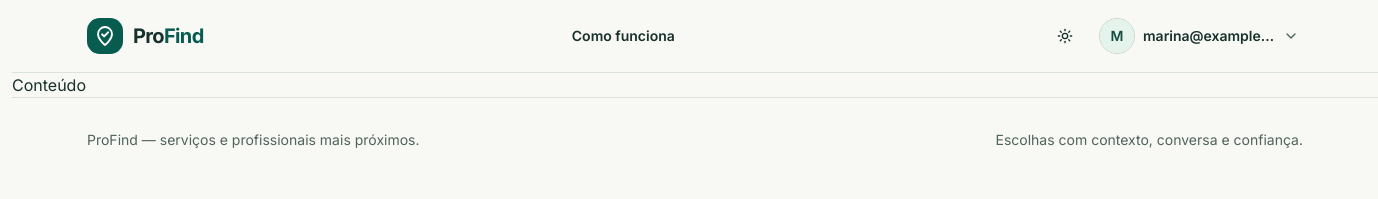
Test: PublicLayout › reabre o menu da conta após rolagem sem bloquear ou deslocar a página
(page scrolled)
Click the button with aria-label "Abrir menu da conta de marina@example.com".
click(1199, 36)  # box [1095,14,1303,58]
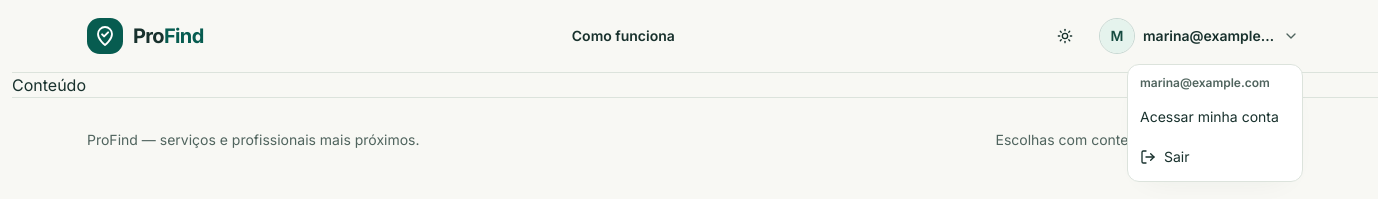
Check: the menu is shown, box [1127,64,1303,182]
Press Escape
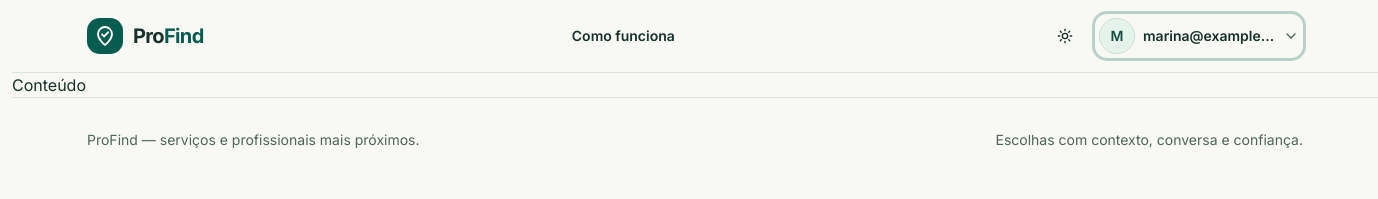
Check: the menu is gone
Click the button with aria-label "Abrir menu da conta de marina@example.com".
click(1199, 36)  # box [1095,14,1303,58]
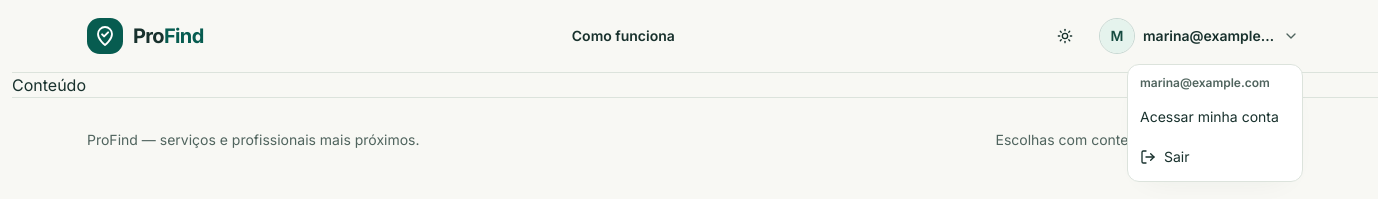
Check: the menu is shown, box [1127,64,1303,182]
Click the text "Conteúdo".
click(49, 85)  # box [12,75,86,95]
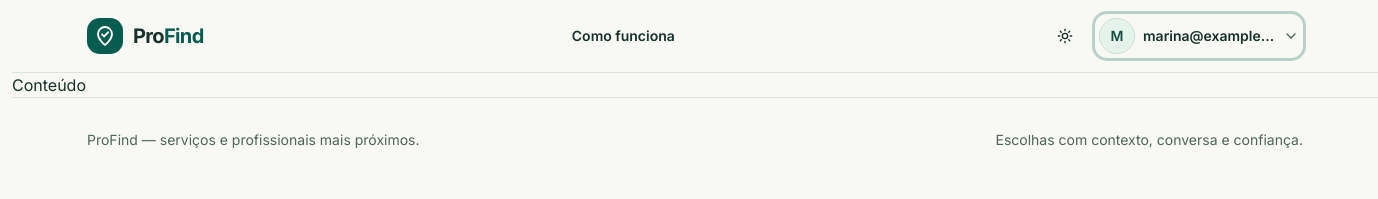
Check: the menu is gone
Press Enter
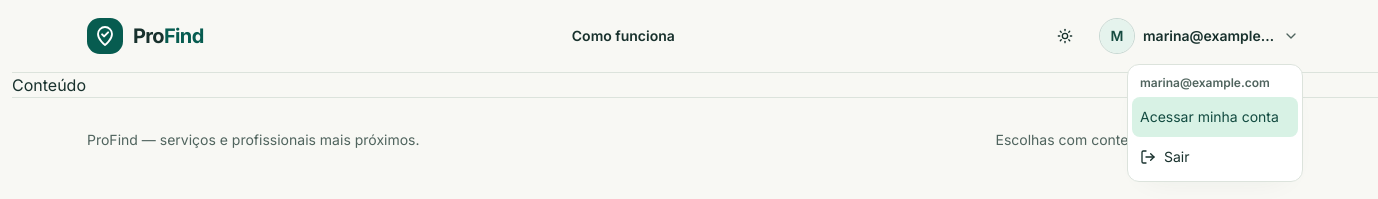
Check: the menu is shown, box [1127,64,1303,182]
Press Escape
(page scrolled)
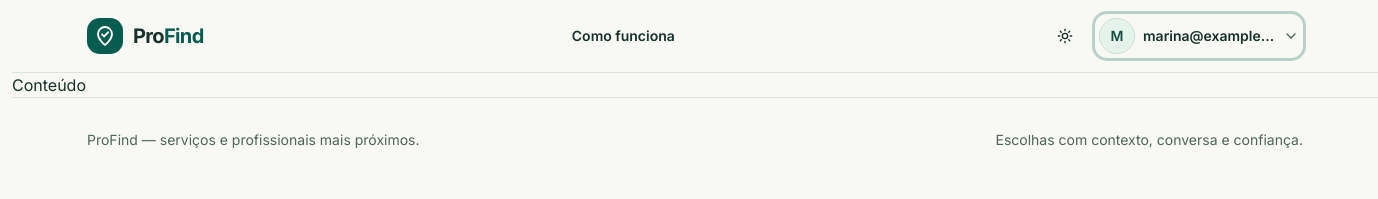
Check: the menu is gone
